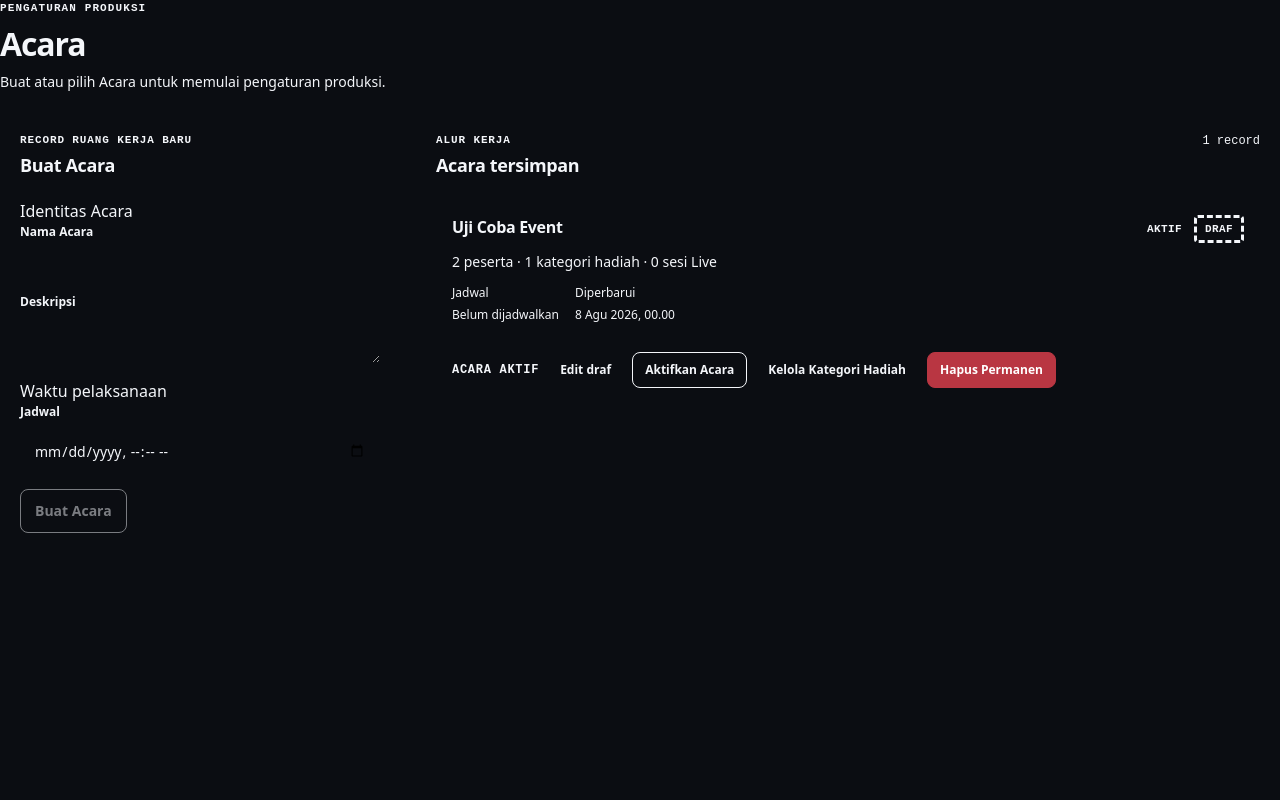
Test case: EventsPage activation flow › distinguishes Current from Draft and requires confirmation before activation
The width and height of the screenshot is (1280, 800).
Expected: the text "AKTIF" is shown, [1147,223,1182,235]
Expected: the text "DRAF" is shown, [1194,215,1244,243]
Step 1. Click the button "Aktifkan Acara" → x=690, y=370, box [632,352,747,388]
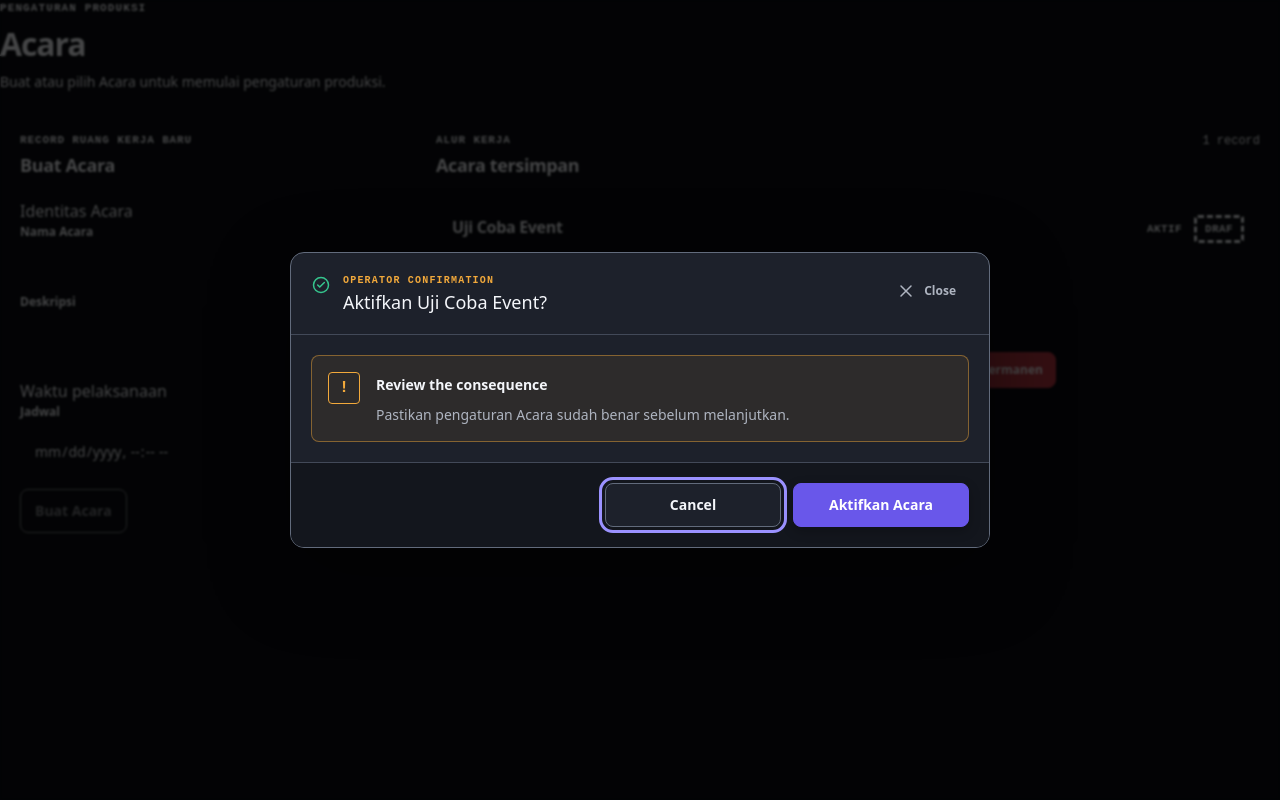
Now the dialog shows "Aktifkan Uji Coba Event?", box [343,290,547,314]
Now the text "Pastikan pengaturan Acara sudah benar sebelum melanjutkan." is shown, box [376,405,790,424]
